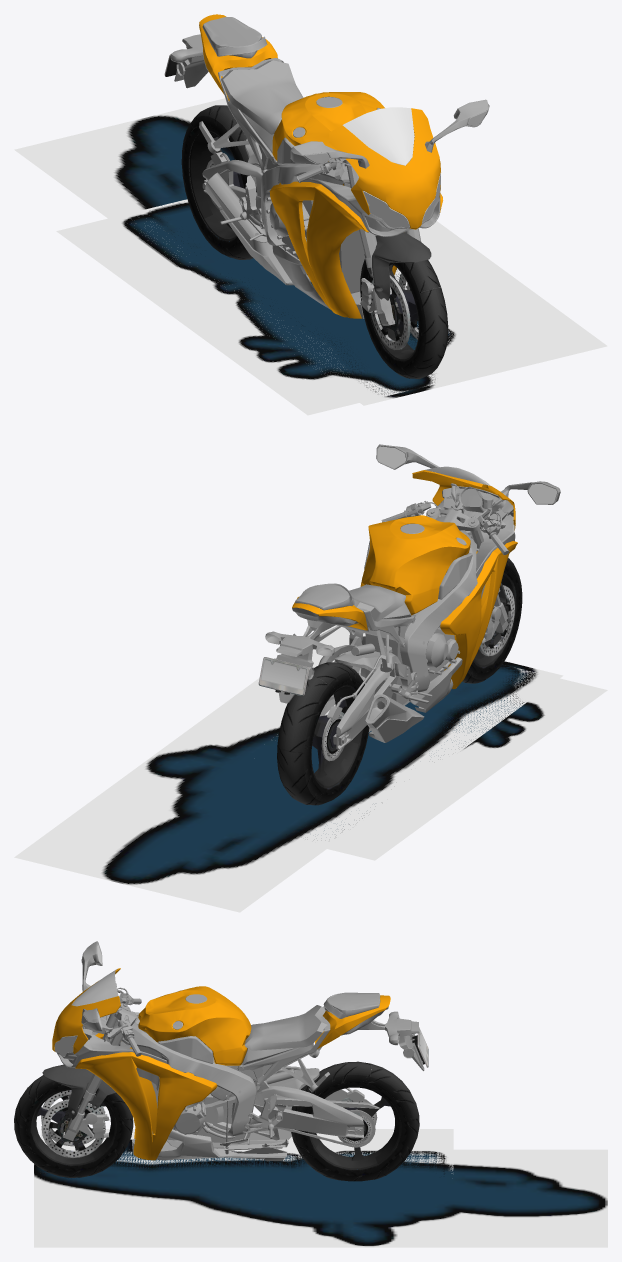
The model's file is bike8_34.fbx.
The picture shows the model from 3 angles, top to bottom: view 1: azimuth 30°, elevation 25°; view 2: azimuth 150°, elevation 25°; view 3: azimuth 270°, elevation 25°; orthographic projection. The views are drawn at different scales.
Visible parts, largest first — view 1: Shadow_DayLight, Shadow_SunSet, Chrome, Body, Tyre_F, Glass, Tyre_B, Rim_F, SteeringChrome, Rim_B, SteeringBody; view 2: Shadow_SunSet, Chrome, Shadow_DayLight, Body, Tyre_B, SteeringChrome, Rim_B, Plate, Tyre_F, Rim_F, Mirror; view 3: Shadow_SunSet, Chrome, Body, Tyre_B, Shadow_DayLight, Tyre_F, Rim_F, SteeringChrome, Rim_B, SteeringBody, Glass.
Part boxes in pixels (x1,y1,x2,y2): Shadow_DayLight: (56,199,526,415); Shadow_SunSet: (14,98,607,405); Chrome: (170,17,489,318); Body: (199,14,442,318); Tyre_F: (360,258,448,378); Glass: (342,107,440,228); Tyre_B: (181,105,256,259); Rim_F: (368,262,418,360); SteeringChrome: (296,158,421,325); Rim_B: (189,131,243,240); SteeringBody: (364,232,431,300); Shadow_SunSet: (14,625,563,912); Chrome: (265,444,560,749); Shadow_DayLight: (277,664,607,860); Body: (292,470,517,688); Tyre_B: (277,662,369,805); SteeringChrome: (381,496,509,643); Rim_B: (311,686,362,787); Plate: (258,657,309,695); Tyre_F: (462,558,522,683); Rim_F: (473,573,515,666); Mirror: (378,446,557,503); Shadow_SunSet: (34,1149,607,1247); Chrome: (56,941,424,1161); Body: (52,968,390,1160); Tyre_B: (291,1061,419,1181); Shadow_DayLight: (40,1129,453,1179); Tyre_F: (14,1075,133,1177); Rim_F: (31,1088,116,1165); SteeringChrome: (62,983,141,1140); Rim_B: (309,1086,400,1169); SteeringBody: (42,1064,115,1119); Glass: (54,969,118,1056).
Size of the model in its own units: 152 by 123 by 321.
